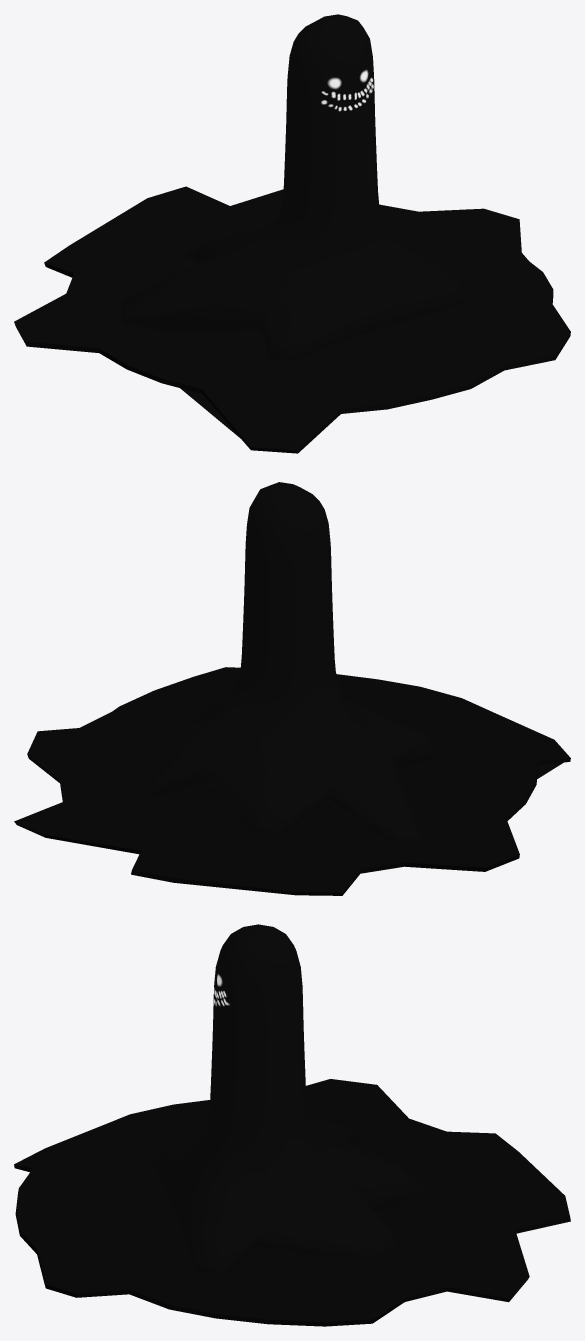
File: shadow_figure.glb
3 views of the same model, one above another, from view 1: azimuth 30°, elevation 25°; view 2: azimuth 150°, elevation 25°; view 3: azimuth 270°, elevation 25° (orthographic). The views are drawn at different scales.
Parts seen in each view (by area): view 1: Circle; view 2: Circle; view 3: Circle.
Part boxes in pixels (x1,y1,x2,y2): Circle: (14,14,570,453); Circle: (14,482,570,895); Circle: (14,924,570,1326).
Bounding box in the file's own units: 12.09 × 7.27 × 11.53.
Materials: 2 (1 with a texture image).
